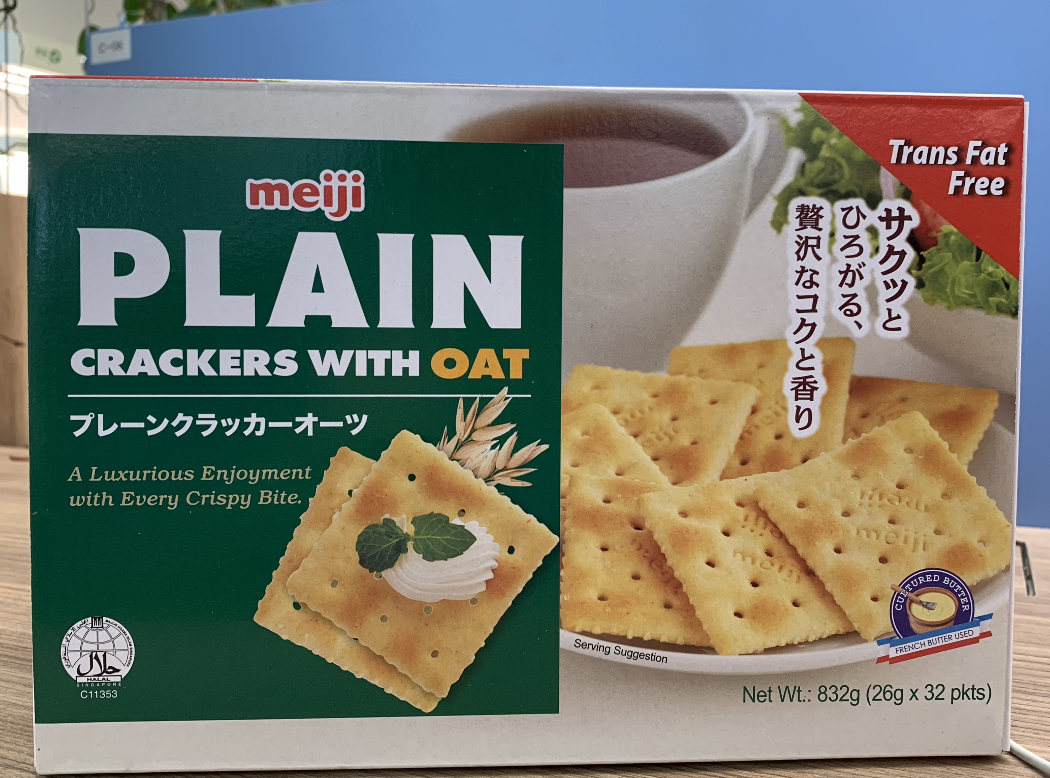crackers_850g: (61, 119, 1010, 723)
